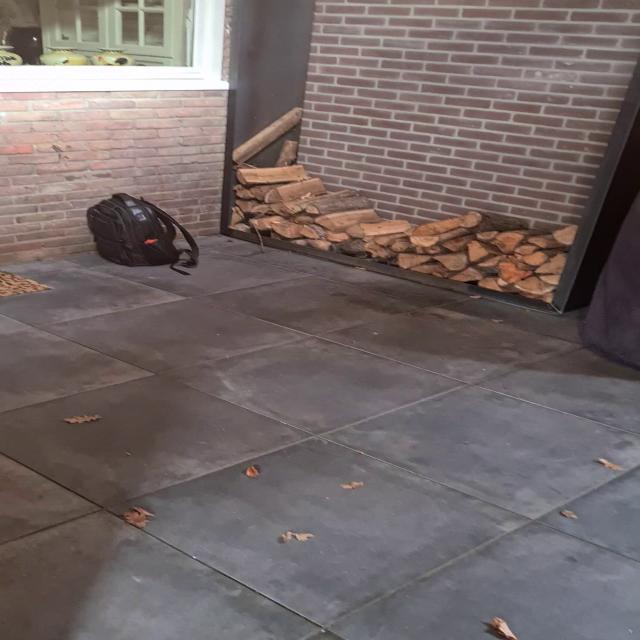backpack: (82, 191, 197, 271)
